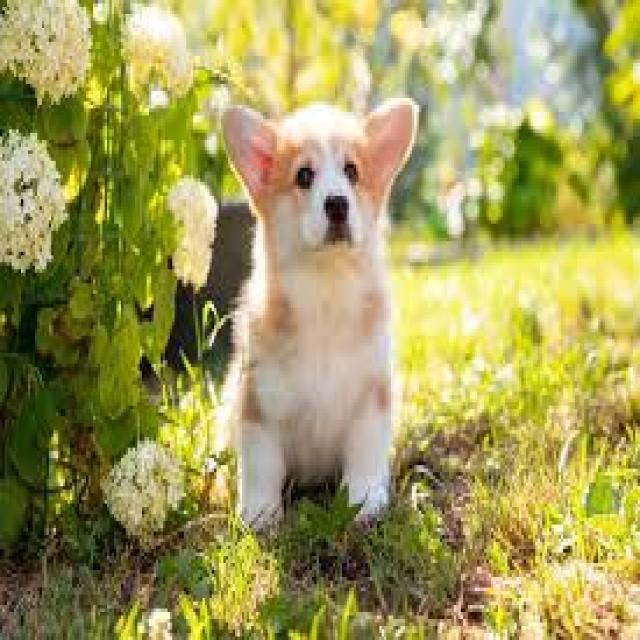CORGI: (200, 78, 437, 562)
